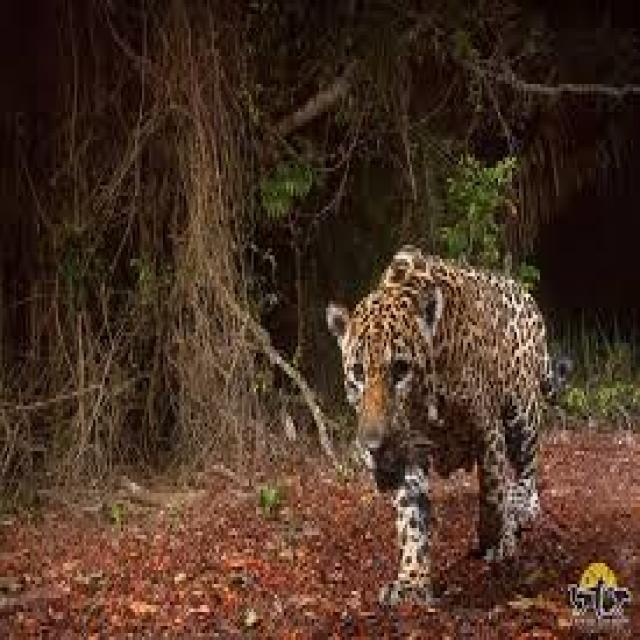Jaguar: (321, 238, 566, 584)
